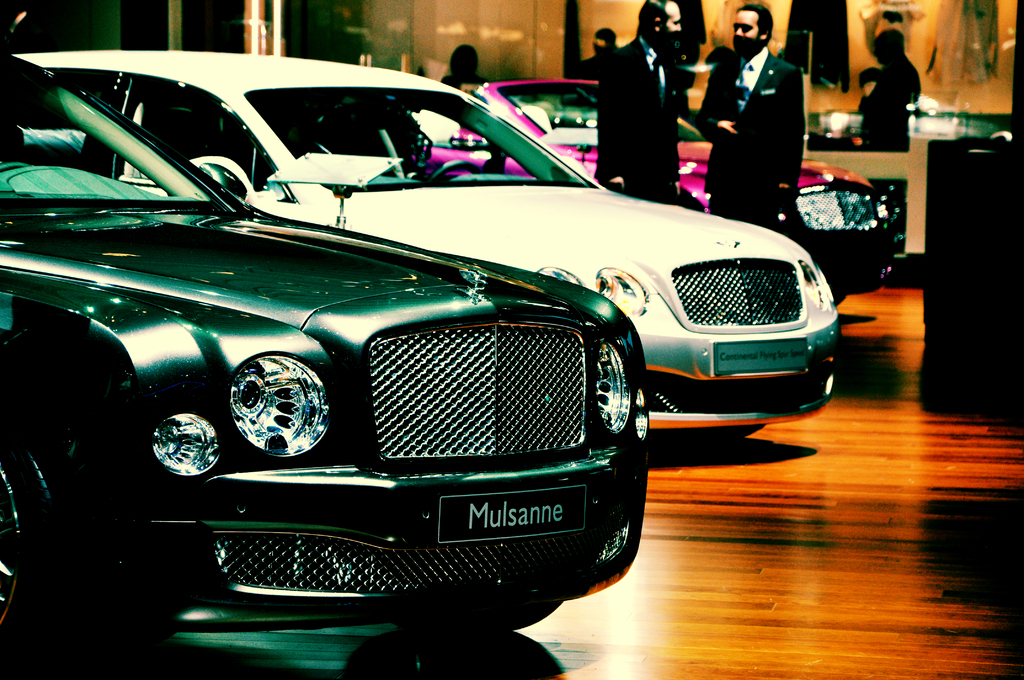person: (820, 26, 922, 150)
